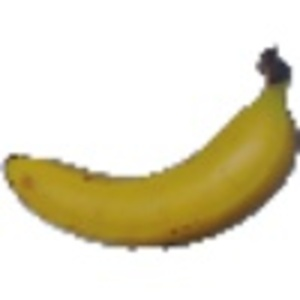banana: (1, 58, 295, 246)
